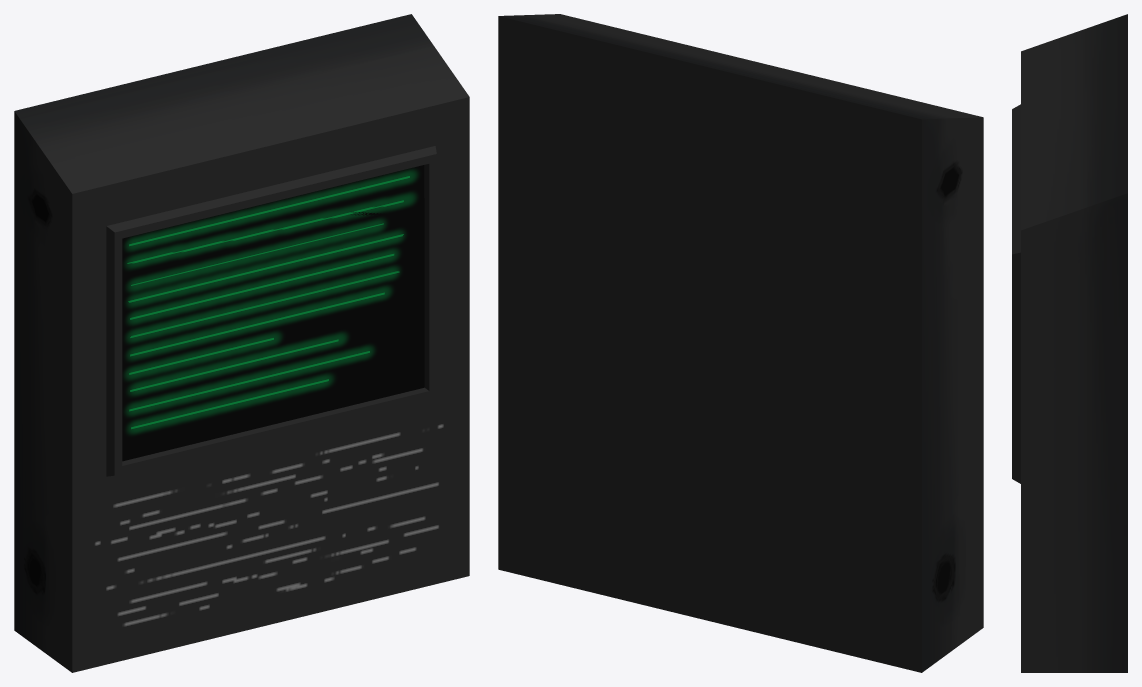
The model's file is CyberTree_Screen.fbx.
3 views of the same model, side by side, from view 1: azimuth 30°, elevation 25°; view 2: azimuth 150°, elevation 25°; view 3: azimuth 270°, elevation 25° (orthographic). The views are drawn at different scales.
Parts seen in each view (by area): view 1: Machine_Screen; view 2: Machine_Screen; view 3: Machine_Screen.
Boxes of the visible parts, x1=… form: Machine_Screen: x1=14, y1=14, x2=469, y2=672; Machine_Screen: x1=498, y1=14, x2=983, y2=672; Machine_Screen: x1=1012, y1=14, x2=1127, y2=672.
Size of the model in its own units: 81.6 by 22.33 by 102.
Materials: 1 (1 with a texture image).
